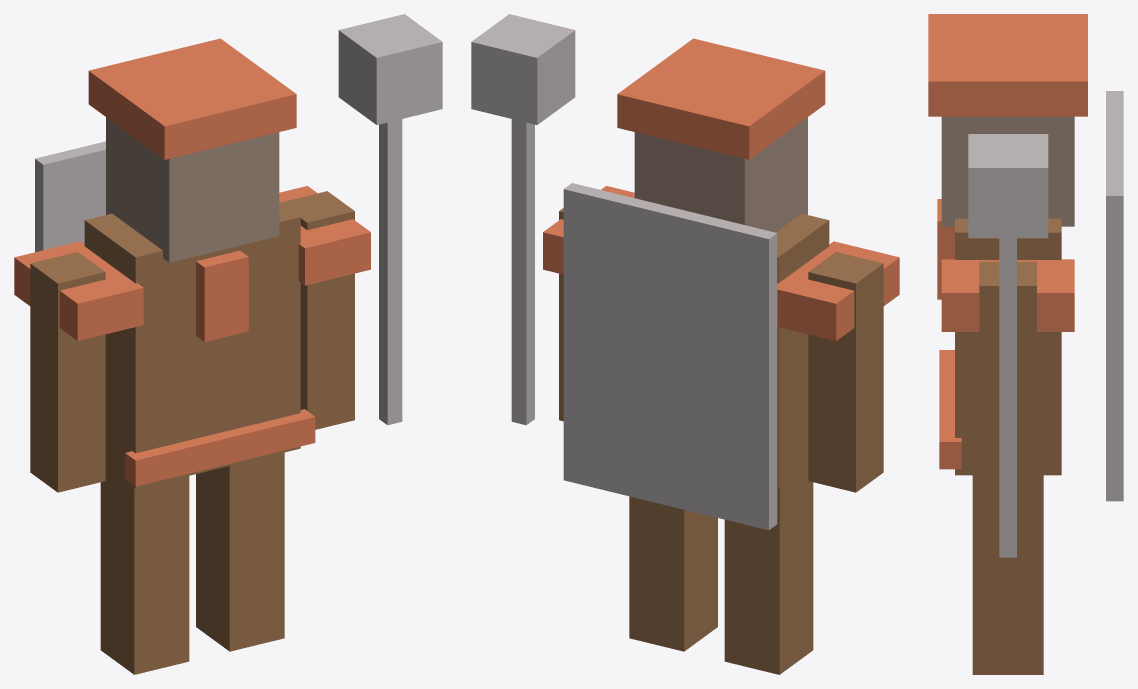
Rendered from 14_kael_nullborne_pilgrim_at_glyph.glb.
3 views of the same model, side by side, from view 1: azimuth 30°, elevation 25°; view 2: azimuth 150°, elevation 25°; view 3: azimuth 270°, elevation 25° (orthographic). The views are drawn at different scales.
Parts seen in each view (by area): view 1: Kael Nullborne, Pilgrim at Glyph; view 2: Kael Nullborne, Pilgrim at Glyph; view 3: Kael Nullborne, Pilgrim at Glyph.
Boxes of the visible parts, left/top/right/bottom form: Kael Nullborne, Pilgrim at Glyph: left=14, top=14, right=442, bottom=674; Kael Nullborne, Pilgrim at Glyph: left=471, top=14, right=899, bottom=674; Kael Nullborne, Pilgrim at Glyph: left=928, top=14, right=1123, bottom=674.
Size of the model in its own units: 1.12 by 1.59 by 0.4771.
